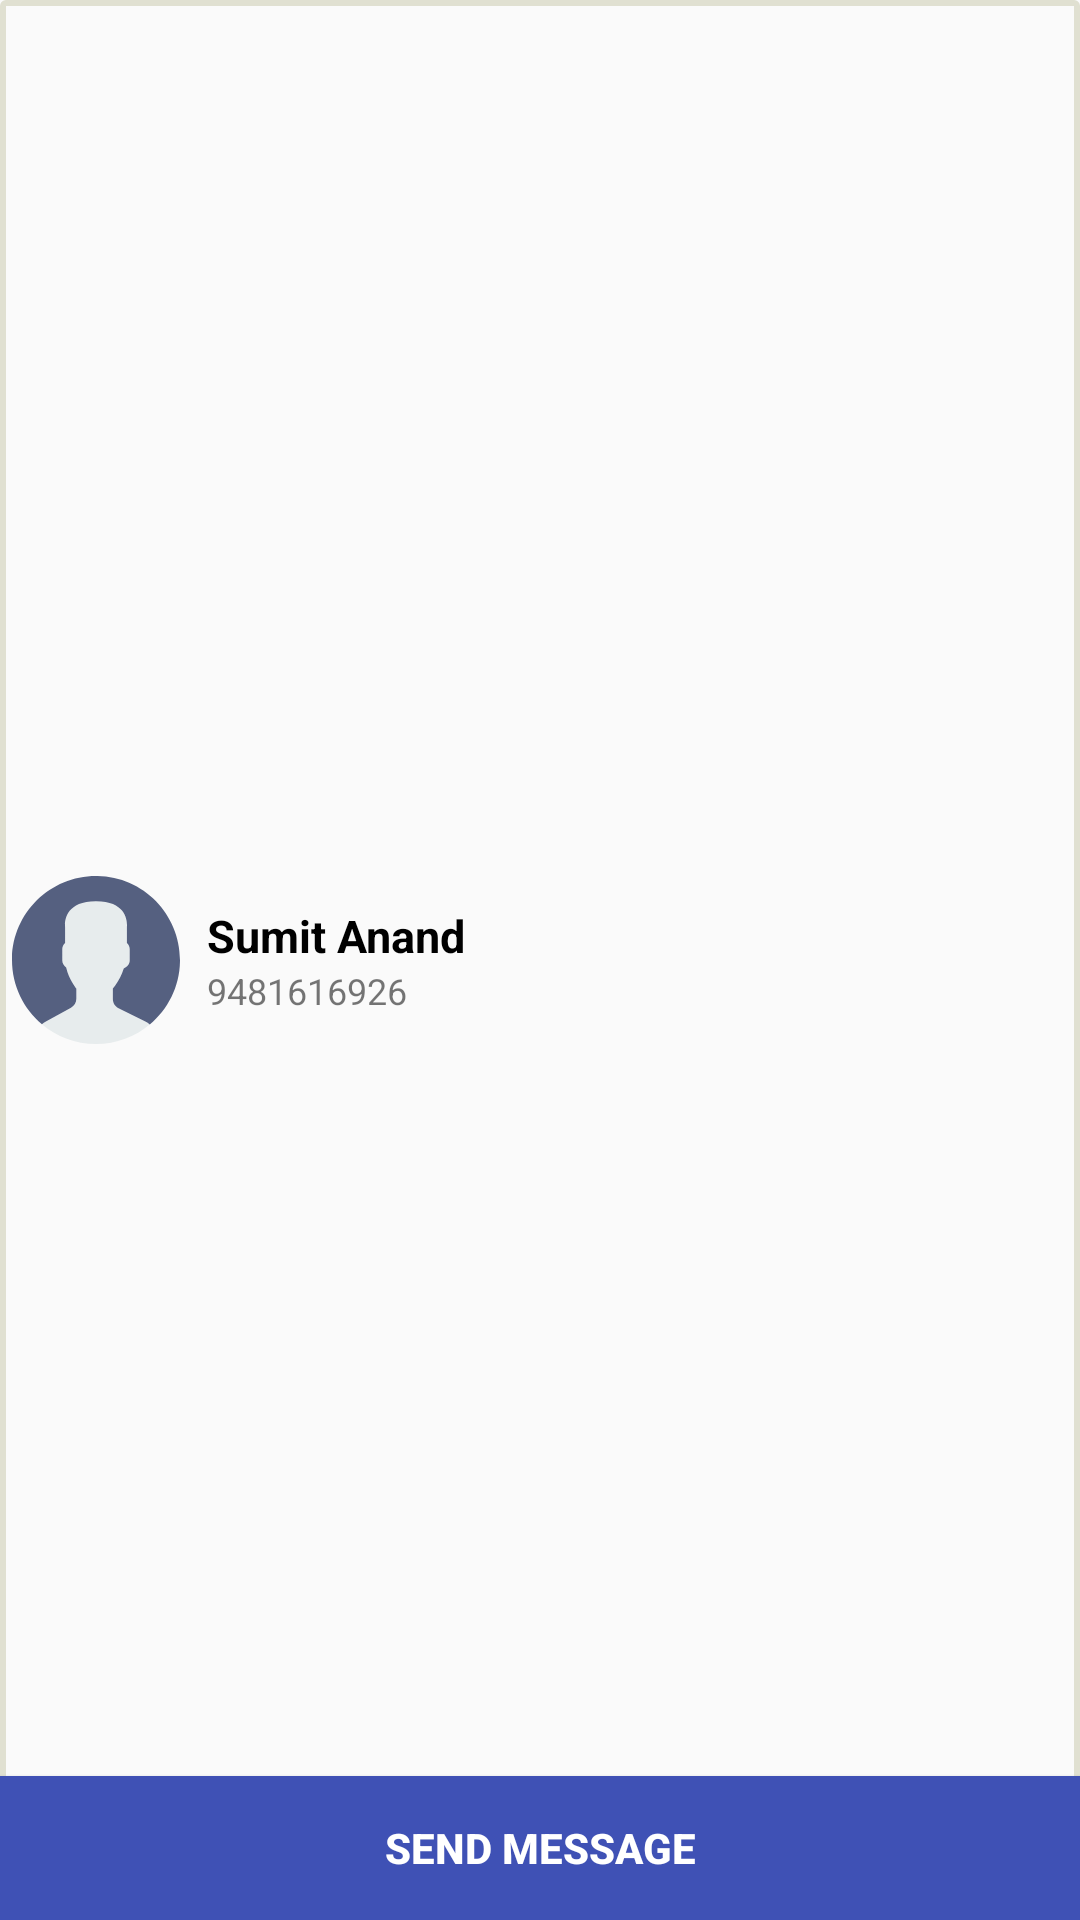

Point at icon controls on the screen. Image size 1080 × 1920, points as [x,y].
user: [96,950]
